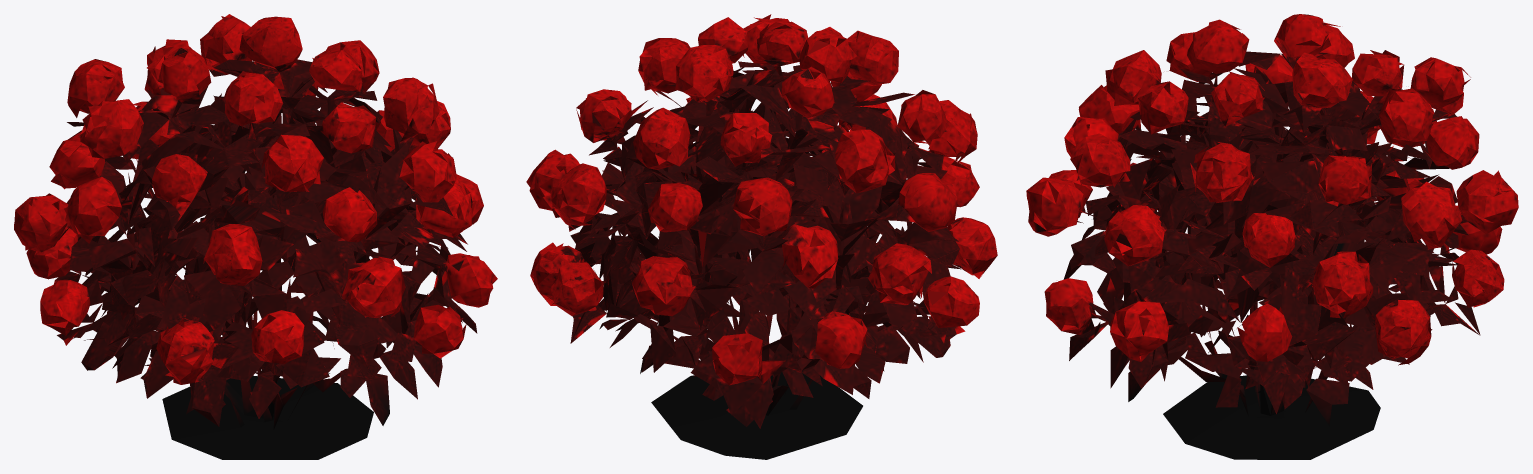
The model's file is prop_hydrangea.glb.
3 views of the same model, side by side, from view 1: azimuth 30°, elevation 25°; view 2: azimuth 150°, elevation 25°; view 3: azimuth 270°, elevation 25° (orthographic).
Visible parts, largest first — view 1: output_unwrapped; view 2: output_unwrapped; view 3: output_unwrapped.
Boxes of the visible parts, x1,y1,x2,y2 form: output_unwrapped: (14,14,497,459); output_unwrapped: (526,14,997,459); output_unwrapped: (1026,14,1518,459).
Size of the model in its own units: 1.89 by 1.57 by 1.88.
1 material, 1 textured.
